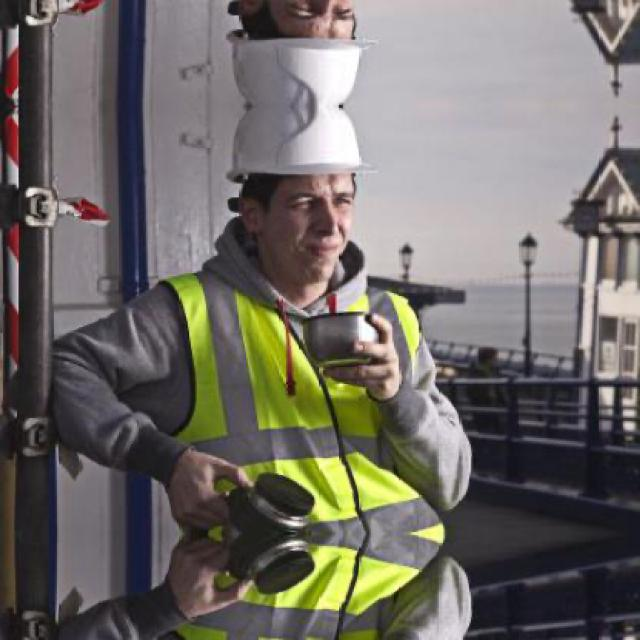con casco: (96, 130, 405, 347)
